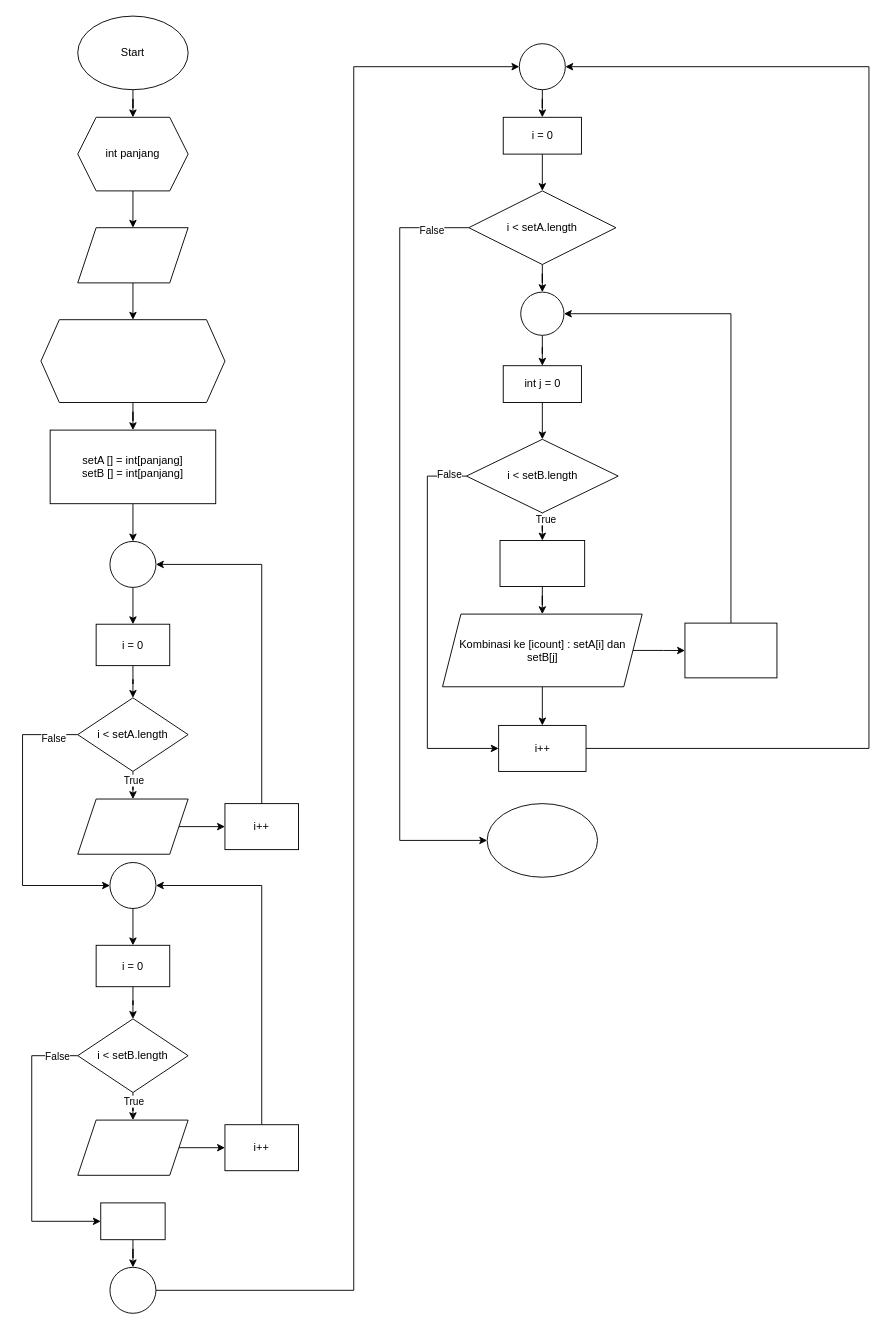
This 892x1329 diagram has some shape labels left out. The centre of each missing label's shape, as x and y in pixels:
"count ++" belongs at point 542,563.
"count = 0" belongs at point 132,1221.
"End" belongs at point 542,840.
"int [] setA, int [] setB, int count" belongs at point 132,360.
"j++" belongs at point 730,650.
"panjang" belongs at point 132,255.
"setA[i]" belongs at point 132,826.
"setB[i]" belongs at point 132,1147.
